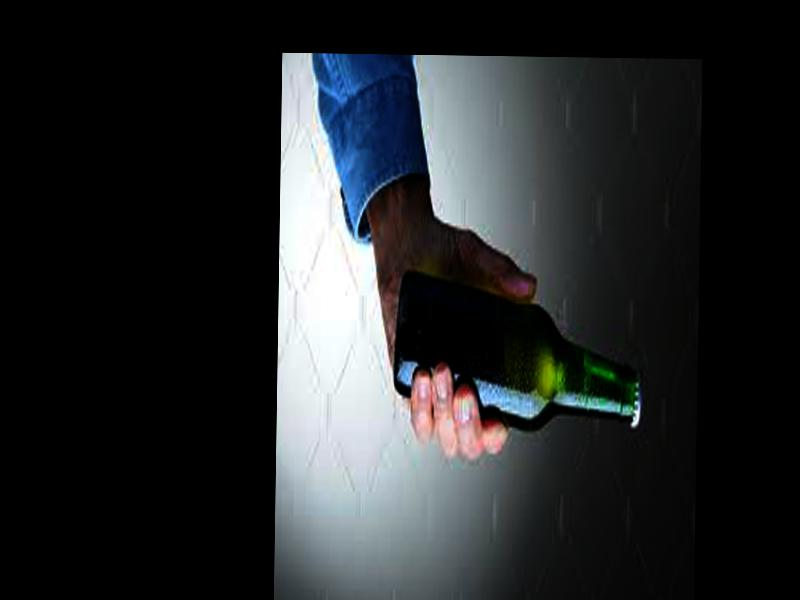Beer: (391, 268, 646, 431)
